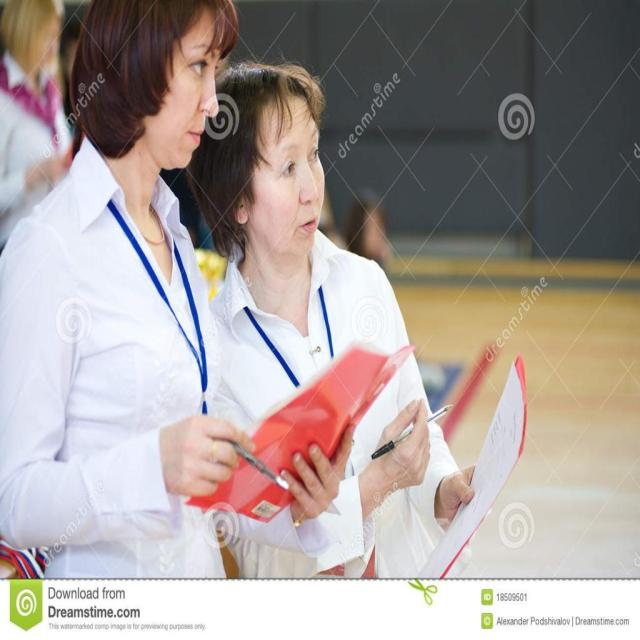Face: (134, 7, 225, 185), (257, 85, 338, 260)
